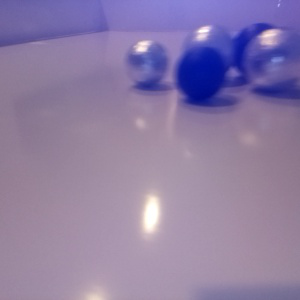alive_ball: (243, 28, 300, 89), (181, 23, 233, 79), (124, 39, 170, 86)
dead_ball: (232, 21, 284, 77), (174, 45, 226, 100)
